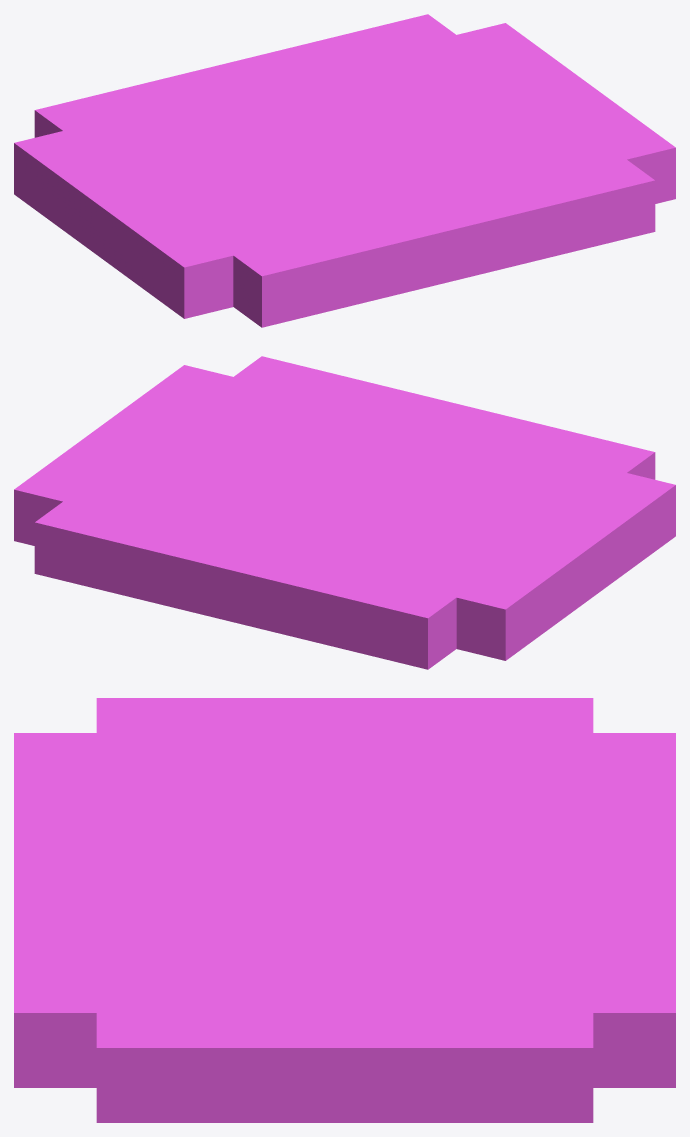
The picture shows the model from 3 angles, top to bottom: view 1: azimuth 30°, elevation 25°; view 2: azimuth 150°, elevation 25°; view 3: azimuth 270°, elevation 25°; orthographic projection. The views are drawn at different scales.
Visible parts, largest first — view 1: 97.1; view 2: 97.1; view 3: 97.1.
Boxes of the visible parts, x1,y1,x2,y2 form: 97.1: (14,14,675,327); 97.1: (14,356,675,669); 97.1: (14,698,675,1122).
Size of the model in its own units: 200 by 20 by 160.
1 material, 1 textured.
